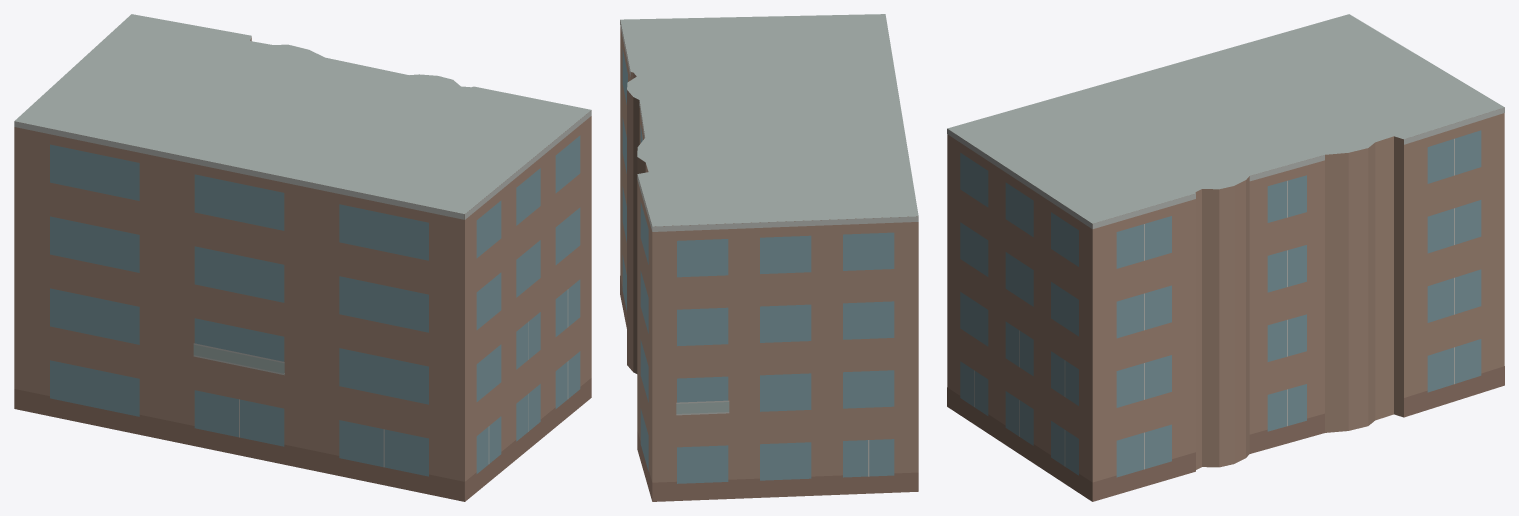
The model's file is survey-upis-33014476.glb.
The picture shows the model from 3 angles, left to right: view 1: azimuth 30°, elevation 25°; view 2: azimuth 150°, elevation 25°; view 3: azimuth 270°, elevation 25°; orthographic projection. The views are drawn at different scales.
Visible parts, largest first — view 1: survey-upis-33014476.tmp; view 2: survey-upis-33014476.tmp; view 3: survey-upis-33014476.tmp.
Boxes of the visible parts, x1,y1,x2,y2 form: survey-upis-33014476.tmp: [14, 14, 591, 501]; survey-upis-33014476.tmp: [620, 14, 918, 501]; survey-upis-33014476.tmp: [947, 14, 1504, 501].
Size of the model in its own units: 19.74 by 12.2 by 22.18.
